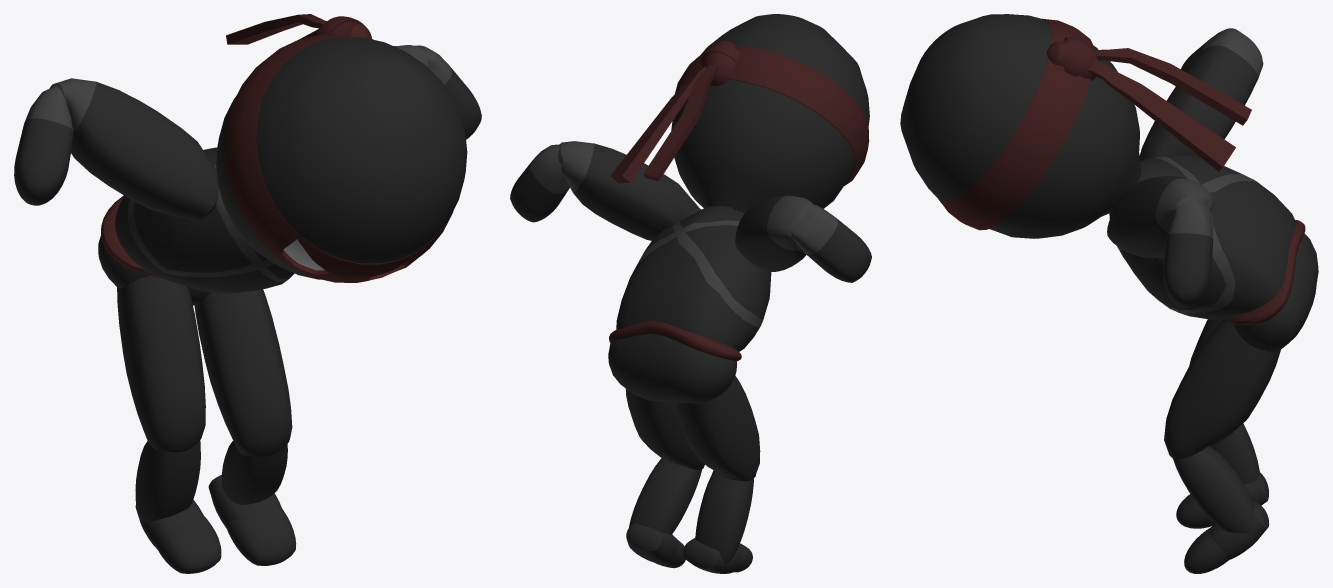
File: ninja_stopping.fbx
3 views of the same model, side by side, from view 1: azimuth 30°, elevation 25°; view 2: azimuth 150°, elevation 25°; view 3: azimuth 270°, elevation 25° (orthographic). The views are drawn at different scales.
Visible parts, largest first — view 1: ninja.001; view 2: ninja.001; view 3: ninja.001.
Boxes of the visible parts, <box> form: ninja.001: <box>14,14,481,573</box>; ninja.001: <box>510,14,871,573</box>; ninja.001: <box>900,14,1318,573</box>.
Bounding box in the file's own units: 135 × 171 × 121.
